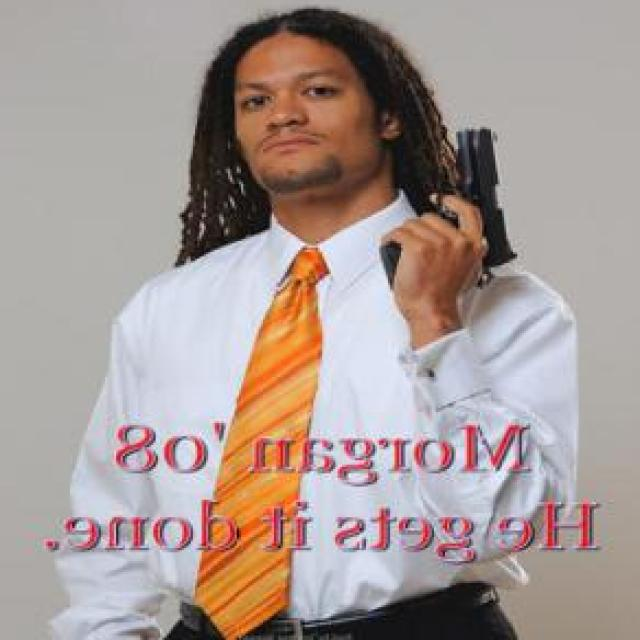pistol: (376, 125, 526, 293)
